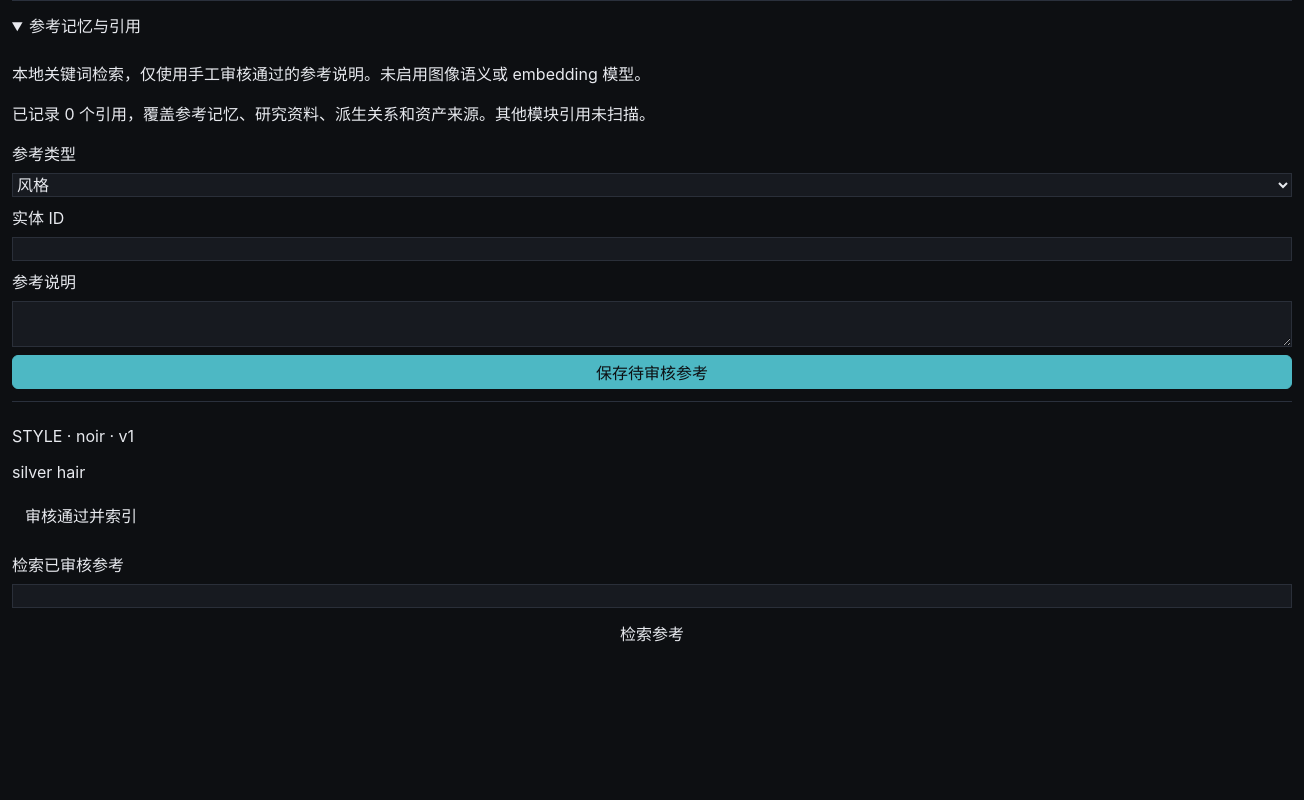
Test: keeps reference draft inputs after an approval conflict
Expected: the button "审核通过并索引" is shown, x1=12 y1=498 x2=150 y2=532
Type "unsaved notes" into the text box labelled "参考说明" at coordinates (652, 324), box x1=12 y1=301 x2=1292 y2=347
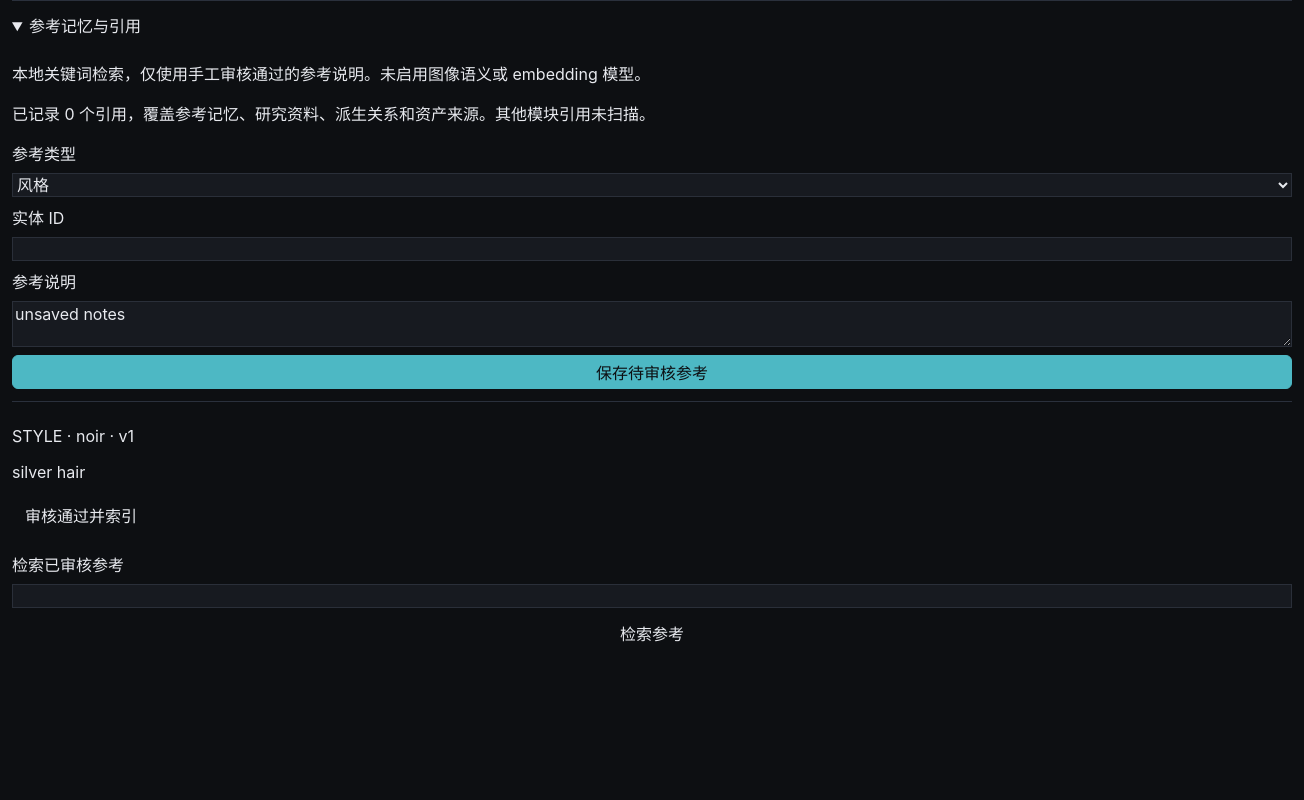
Click the button "审核通过并索引" at coordinates (81, 515), box x1=12 y1=498 x2=150 y2=532
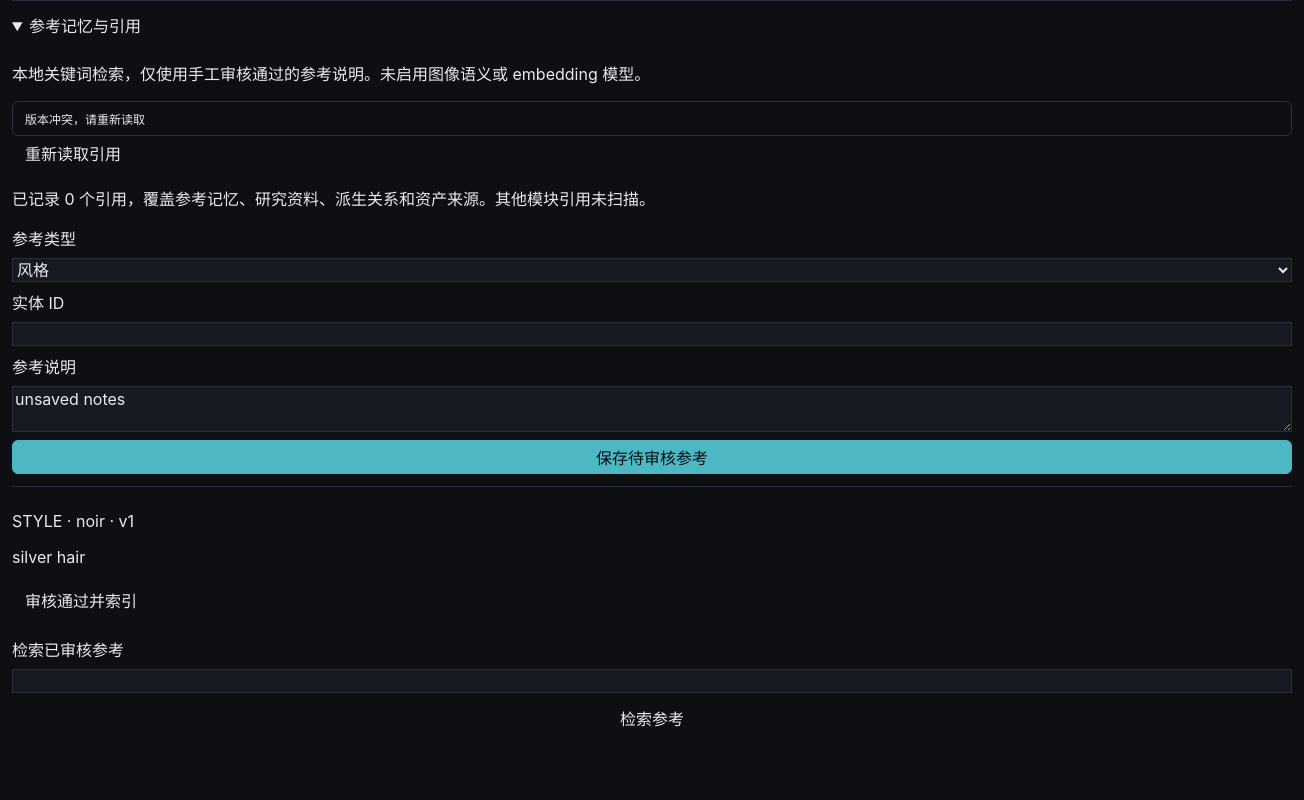
Result: the text "版本冲突，请重新读取" is shown at x1=12 y1=101 x2=1292 y2=136
